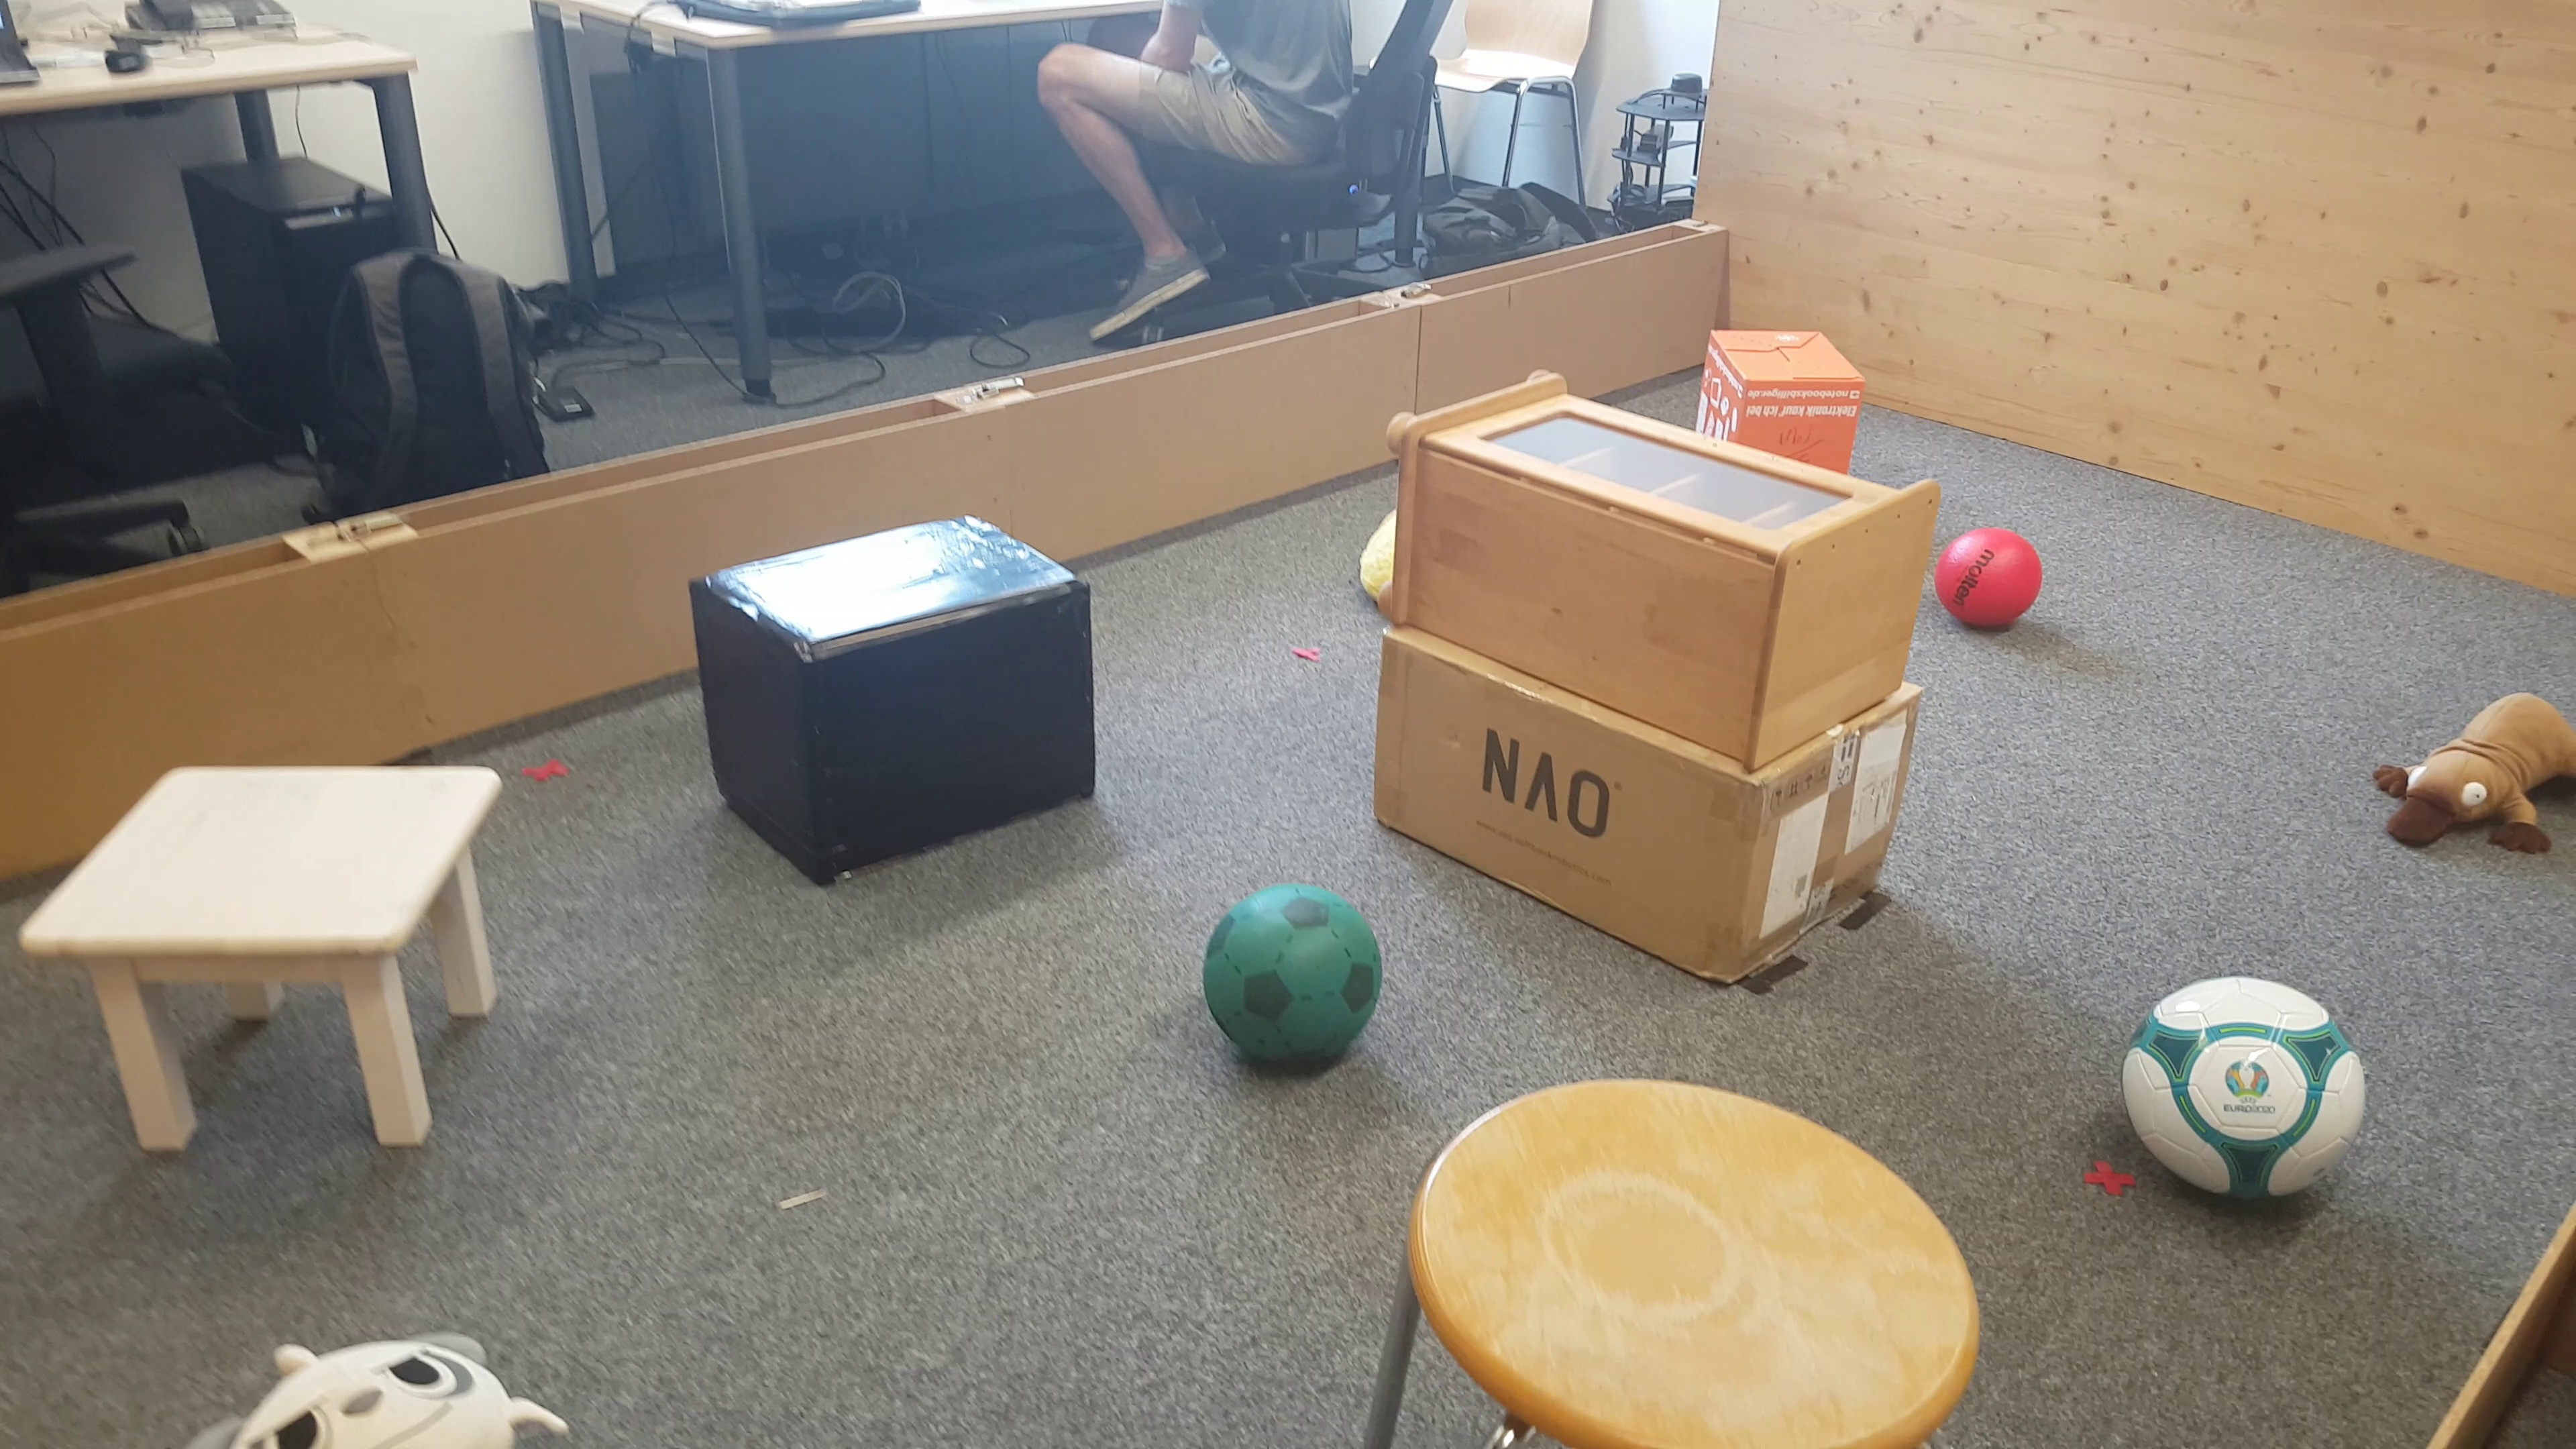grasp: (182, 1323, 579, 1449), (2374, 694, 2576, 853), (1361, 502, 1394, 602)
kick: (2118, 977, 2362, 1221), (1207, 886, 1387, 1069), (1939, 522, 2047, 646)
push: (694, 522, 1104, 874), (1706, 324, 1865, 448)
